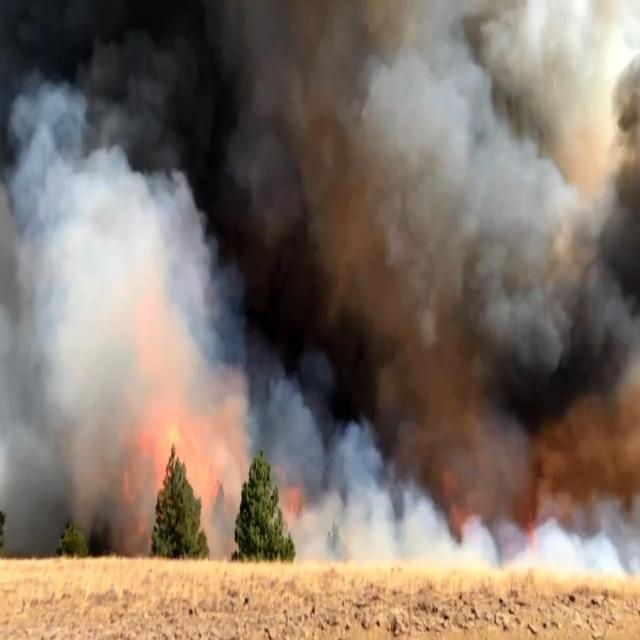Fire: (123, 388, 540, 579)
